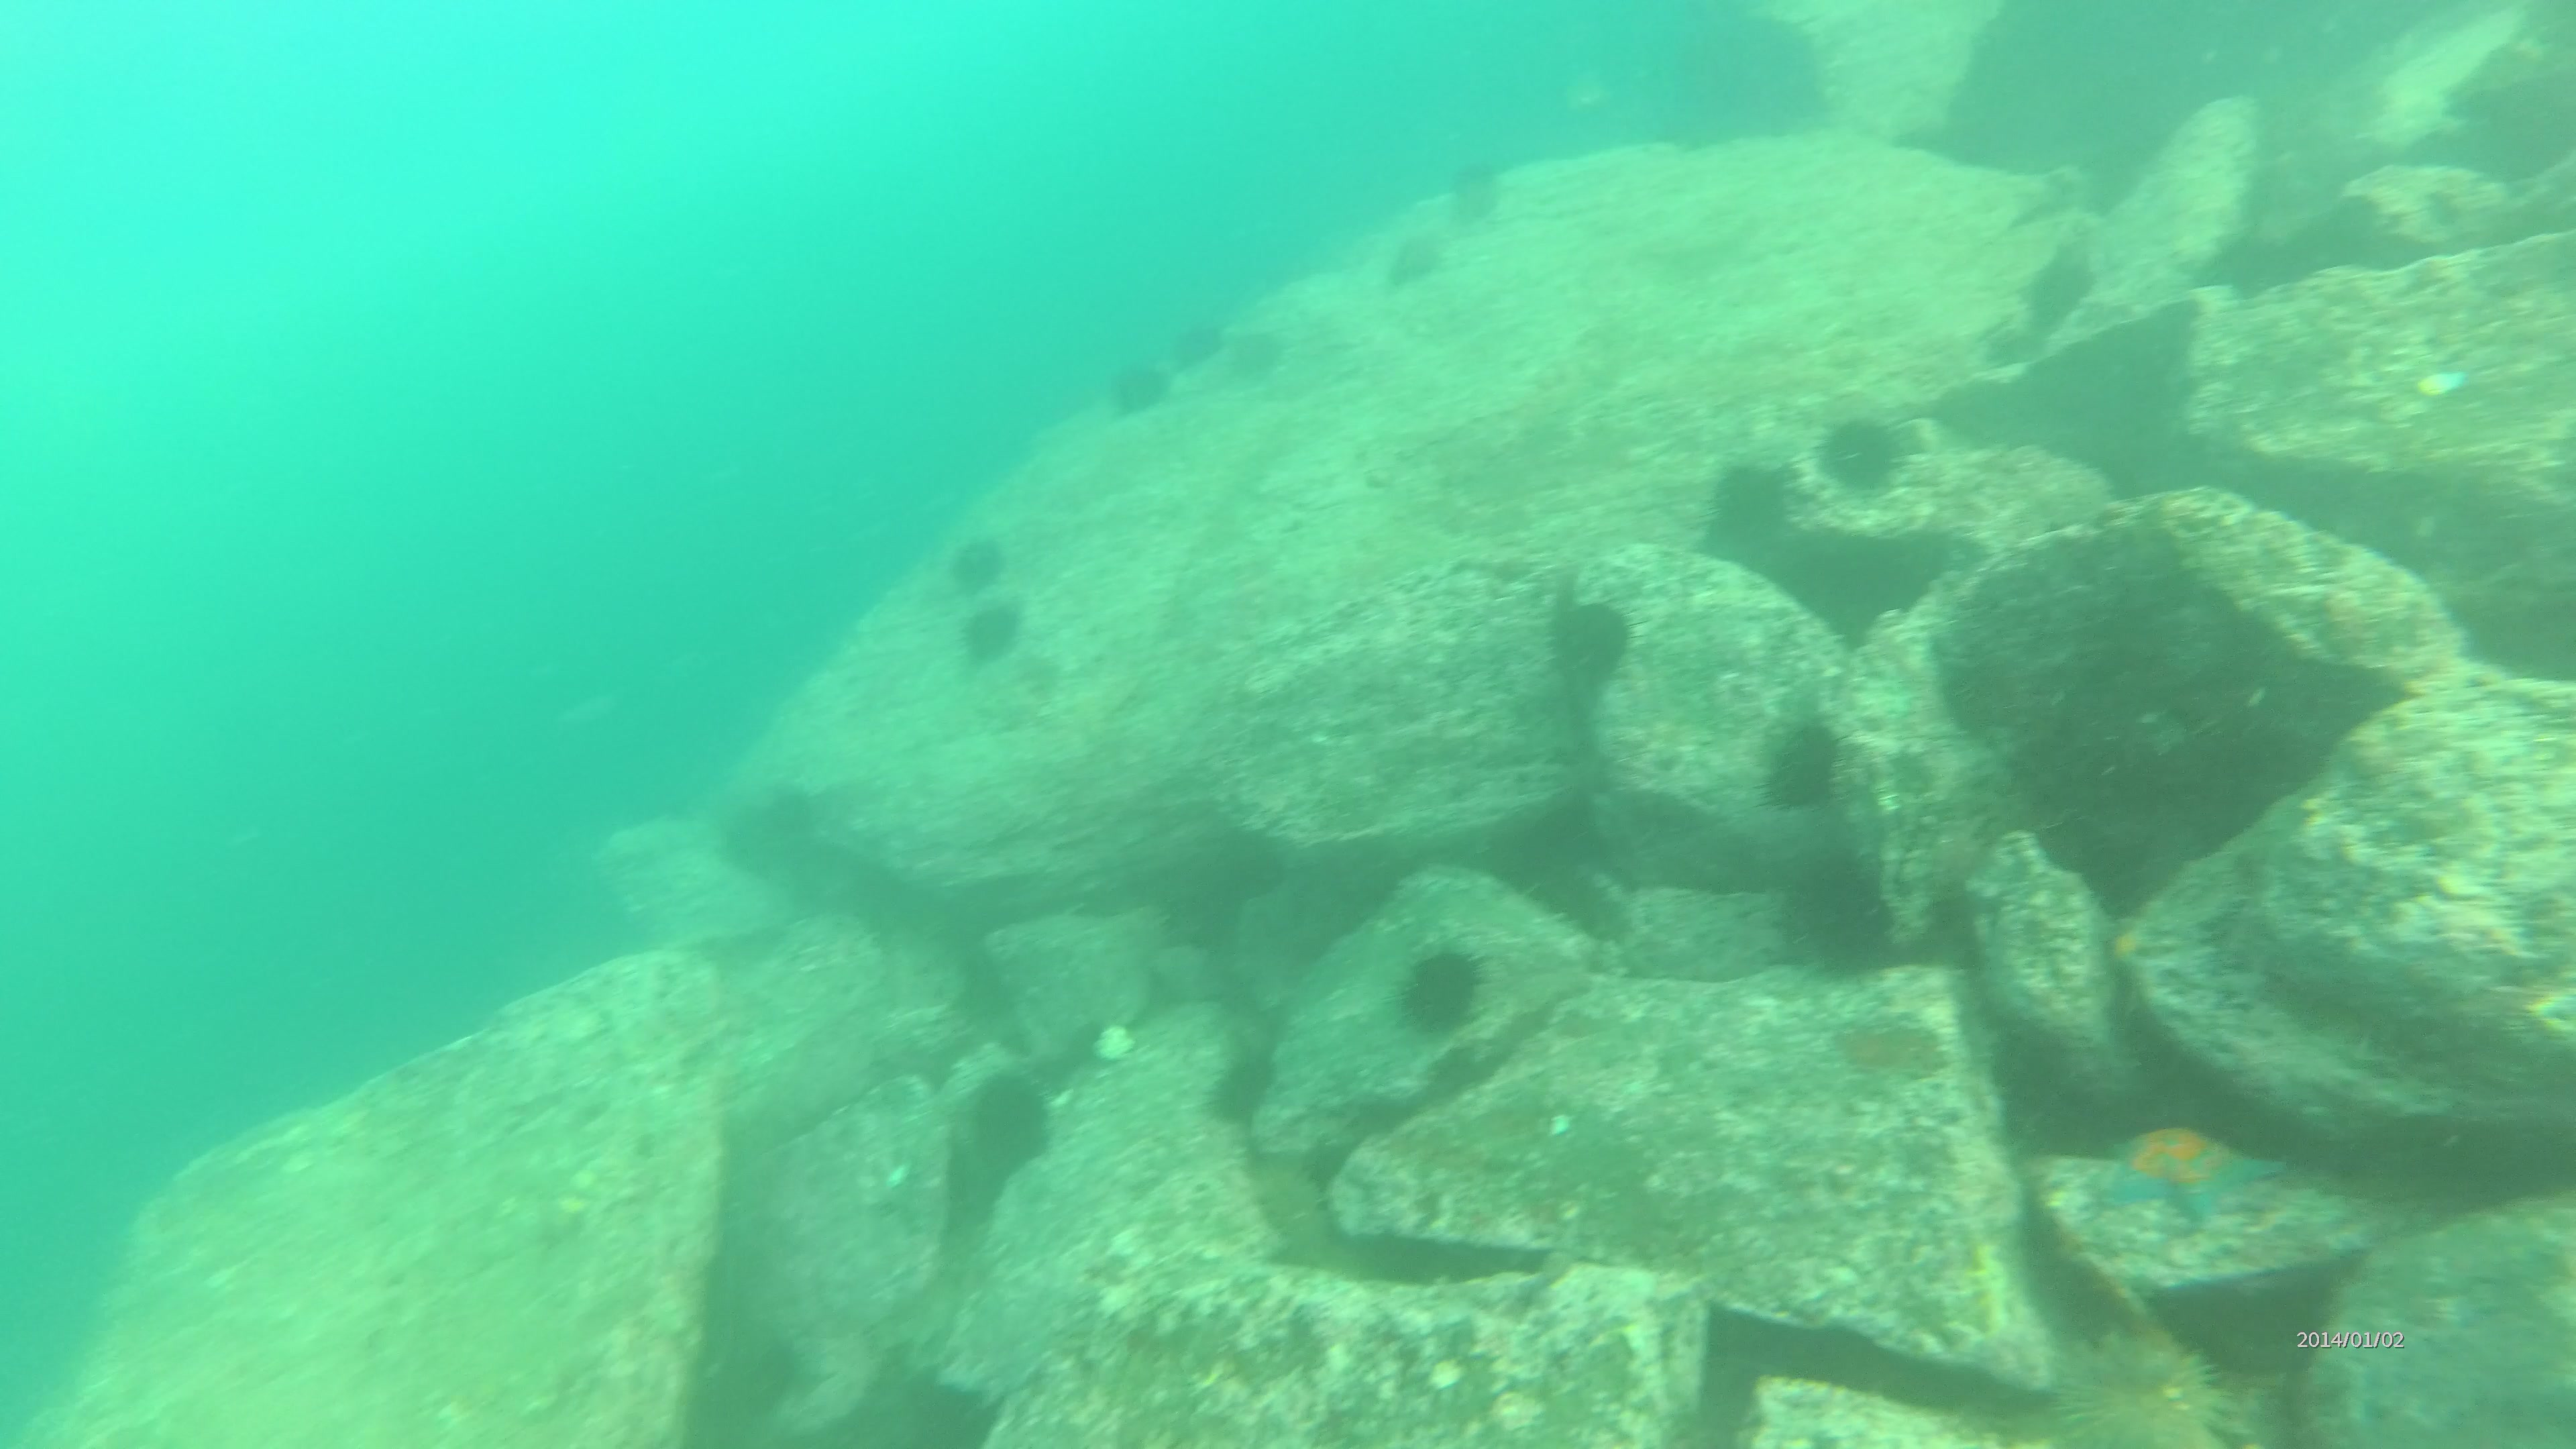echinus: (2056, 1315, 2238, 1449), (962, 1070, 1062, 1180), (1398, 947, 1500, 1040), (1552, 596, 1640, 681), (1704, 460, 1787, 548), (1200, 1049, 1283, 1134), (1760, 724, 1838, 814), (1821, 414, 1902, 495), (1447, 157, 1502, 225), (964, 596, 1021, 658), (943, 534, 1008, 587), (1106, 364, 1171, 416), (1224, 333, 1290, 380), (1385, 232, 1440, 287), (1166, 317, 1221, 370)
starfish: (2097, 1104, 2282, 1235)
